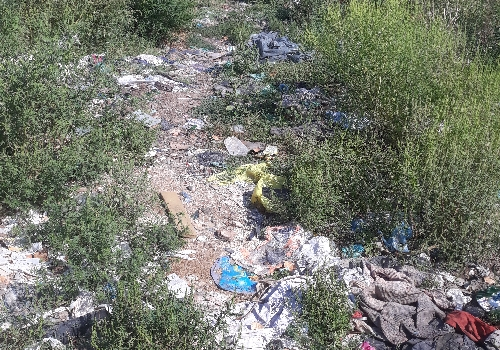trash: (85, 15, 353, 220), (165, 232, 500, 347)
